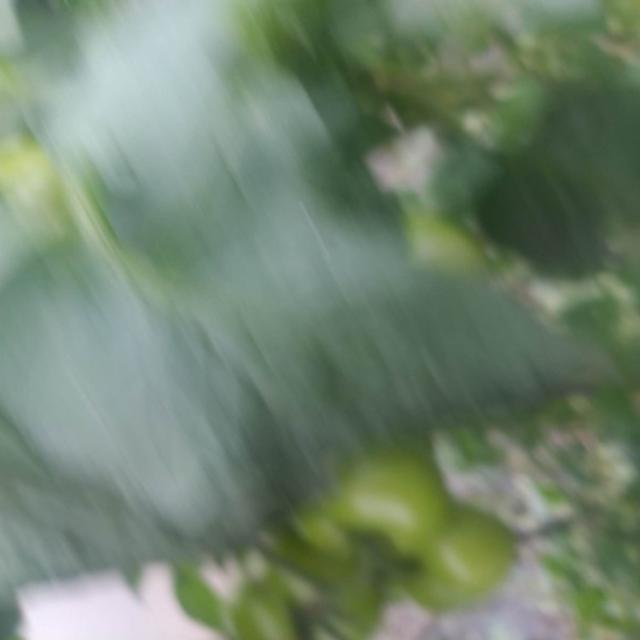tomato: (288, 428, 454, 590), (407, 490, 513, 611), (217, 566, 354, 640)
